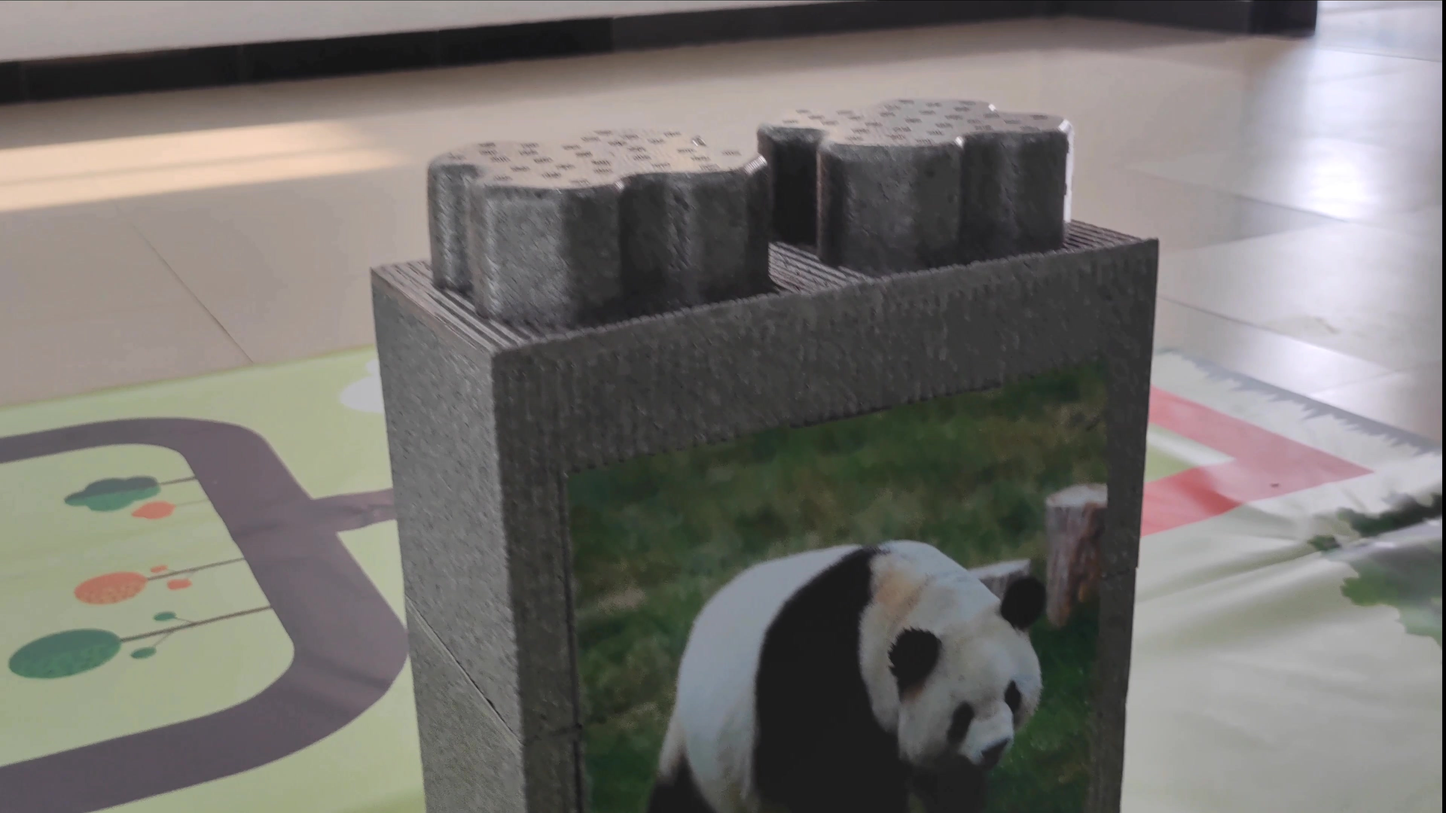panda: (636, 429, 1058, 786)
